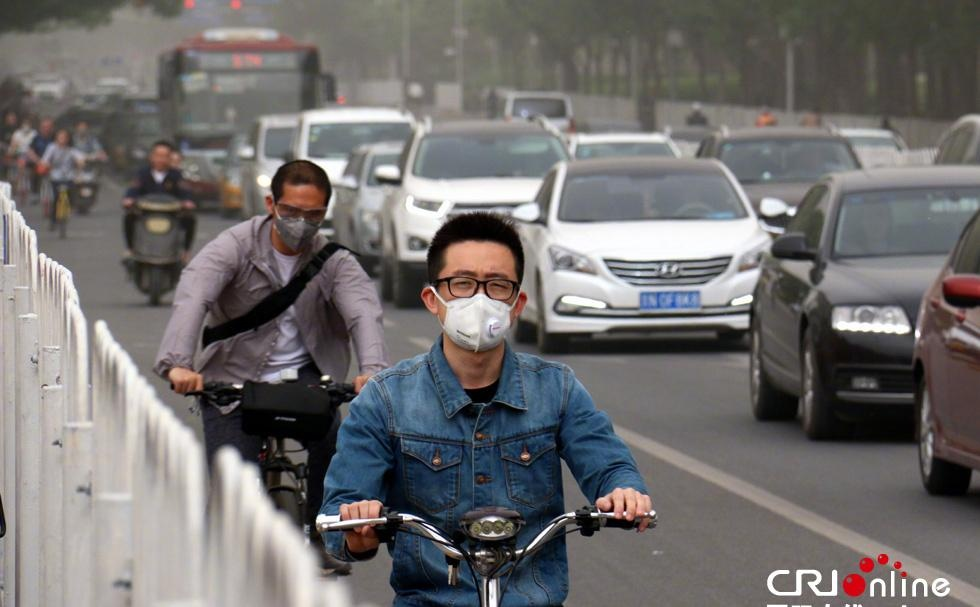Mask: (439, 264, 525, 350)
